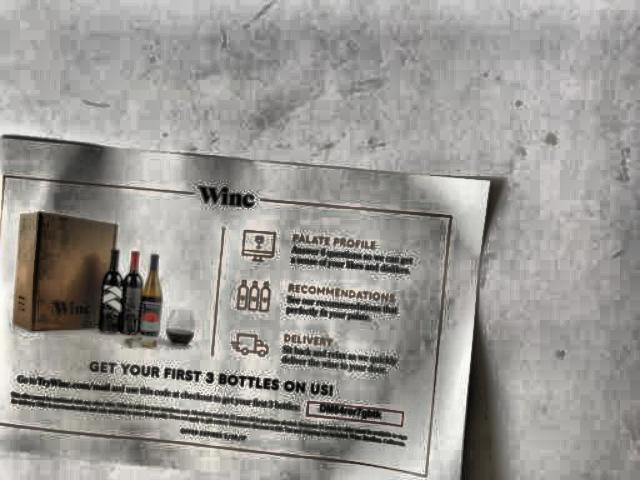Paper: (0, 134, 499, 479)
